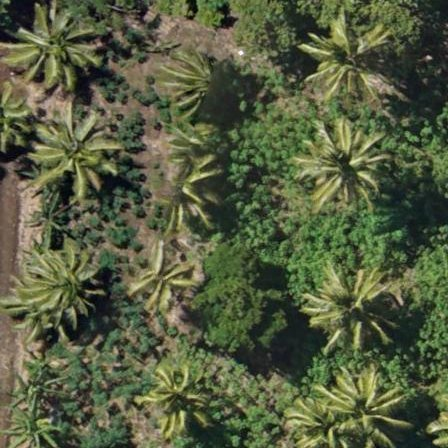palm_tree: (285, 111, 381, 213), (299, 15, 386, 108), (8, 1, 91, 87), (130, 354, 212, 441), (16, 244, 97, 331), (41, 111, 119, 194), (313, 260, 389, 341), (331, 369, 403, 446), (127, 235, 197, 309)
